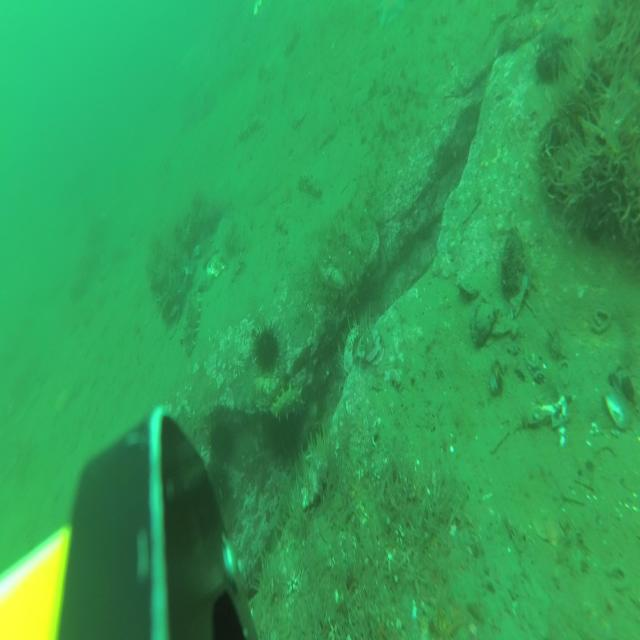echinus: (206, 418, 236, 472), (251, 323, 280, 377), (271, 412, 298, 468), (242, 566, 268, 622), (204, 464, 230, 508)
holothurian: (270, 474, 296, 542), (272, 382, 306, 422), (184, 289, 201, 359), (298, 171, 322, 204), (239, 114, 263, 143), (274, 215, 289, 237), (286, 31, 299, 56), (257, 63, 274, 82)
scallop: (534, 508, 564, 547), (231, 224, 251, 255), (207, 253, 224, 280), (292, 103, 306, 128)
starfish: (434, 609, 464, 640), (375, 0, 406, 28), (51, 384, 70, 428), (375, 617, 386, 640)
